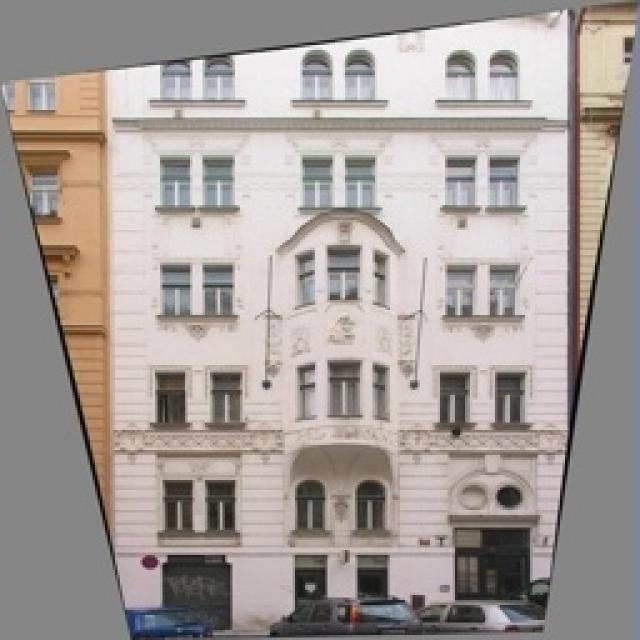building: (108, 0, 570, 640)
